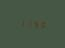nine: (32, 20, 38, 28)
one: (18, 19, 24, 27), (25, 19, 31, 27)
zero: (39, 20, 45, 28)
